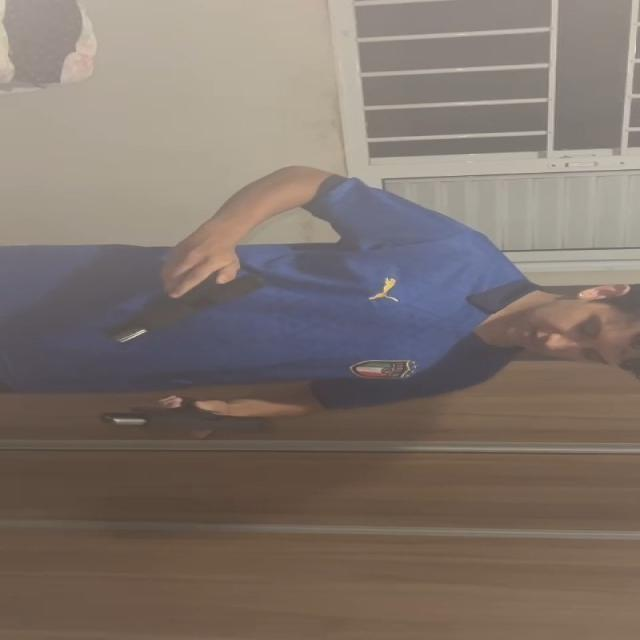gun: (115, 272, 265, 344), (103, 409, 267, 432)
